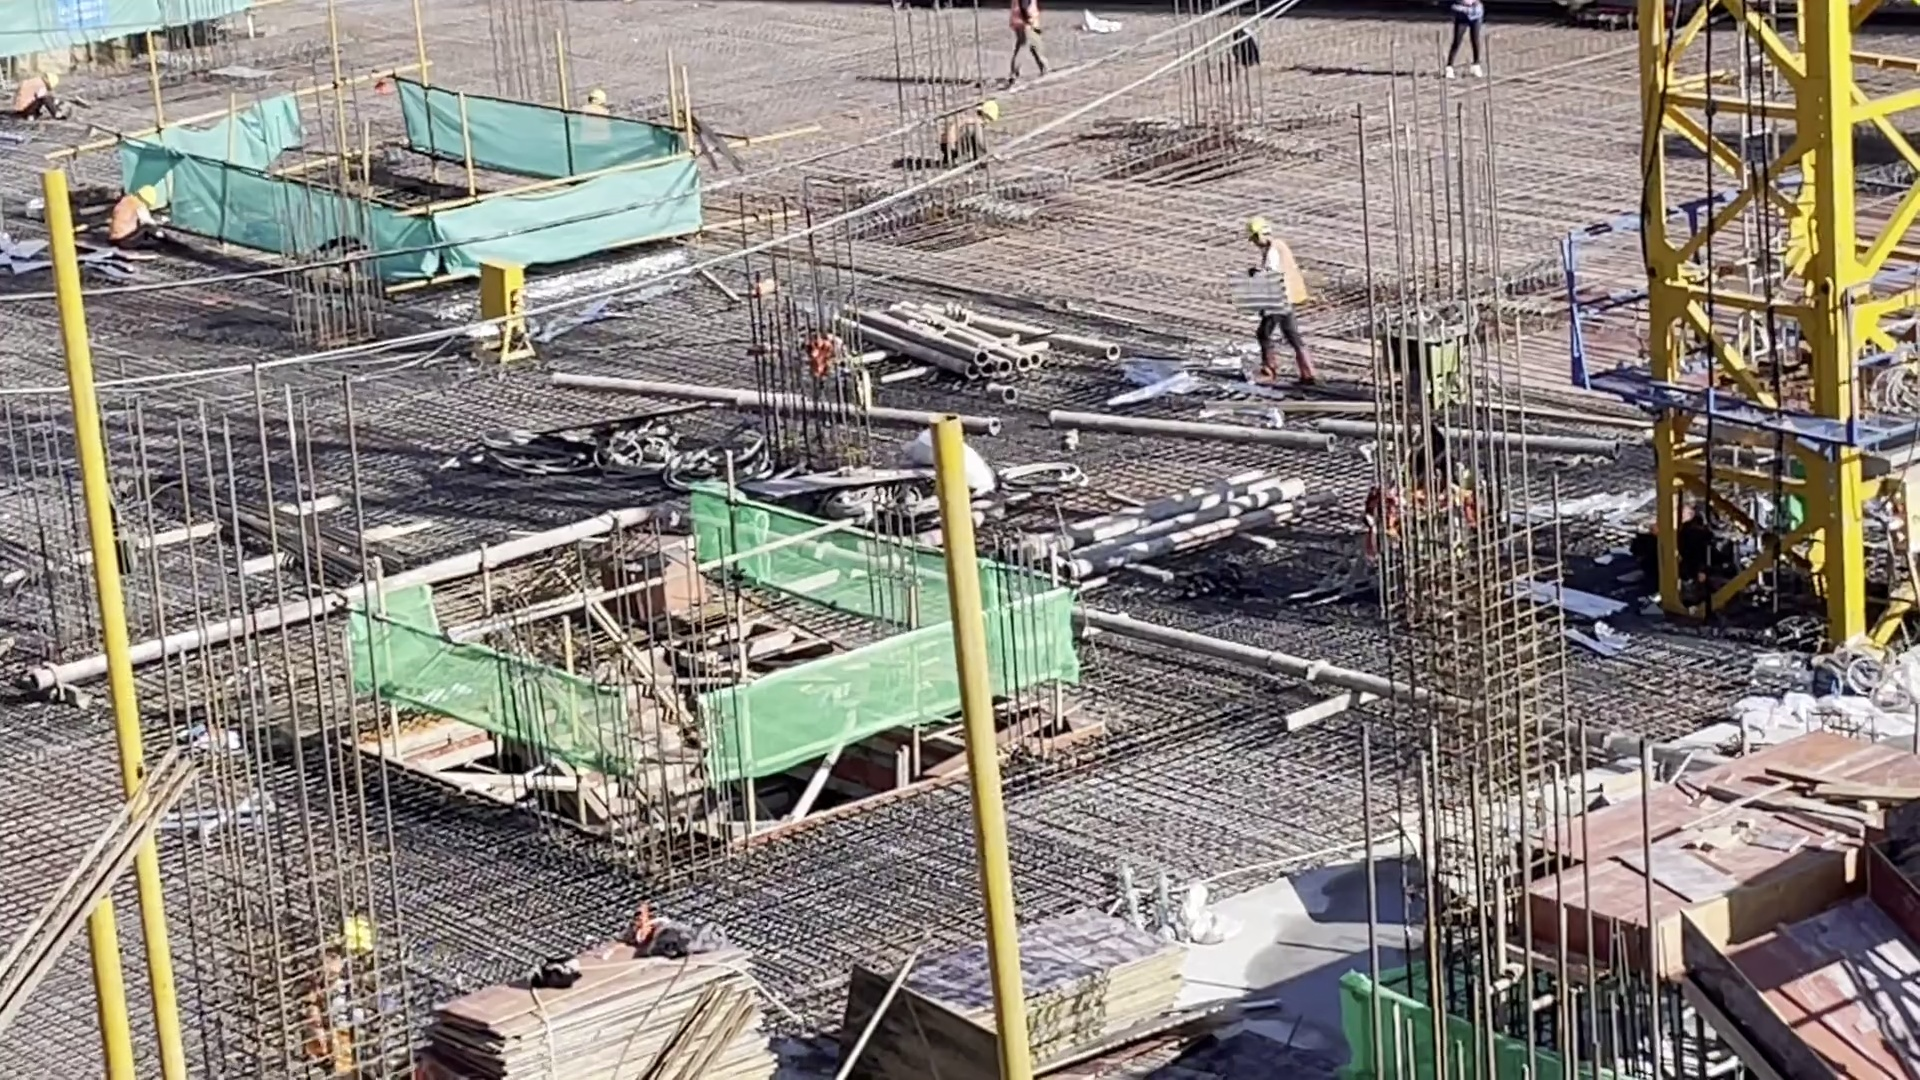helmet: (340, 917, 370, 949), (1247, 213, 1270, 243), (137, 182, 159, 202), (40, 71, 65, 88), (976, 106, 1000, 118), (585, 87, 604, 101)
person: (1236, 212, 1319, 393), (299, 906, 375, 1080), (107, 176, 167, 263), (1003, 1, 1054, 85), (1440, 4, 1489, 83), (15, 67, 71, 123), (939, 102, 1001, 152), (580, 86, 612, 139)
vest: (1263, 243, 1309, 308), (113, 197, 145, 240), (18, 81, 45, 111), (1012, 2, 1038, 31)
